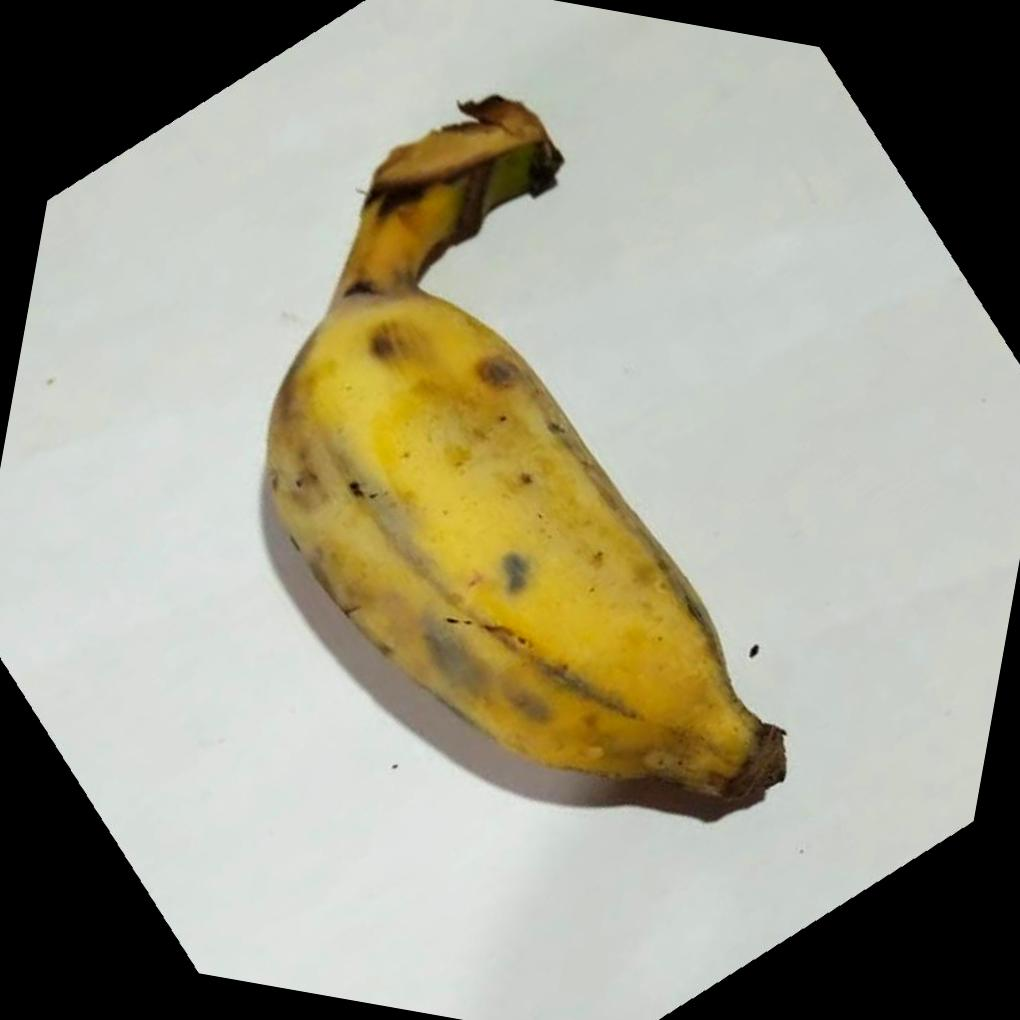Banana Ripe: (216, 137, 902, 869)
